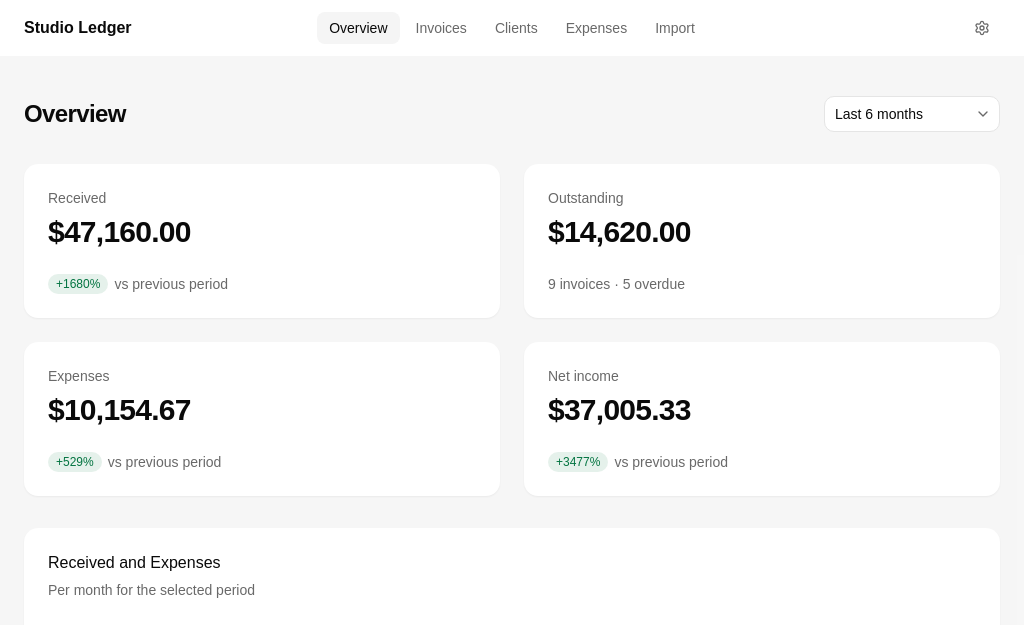
it: Overview dashboard › the period selector offers the five periods (US-1.1)
This screenshot has width=1024, height=625.
Click the dropdown named "Period" at (912,114), box [824,96,1000,132]
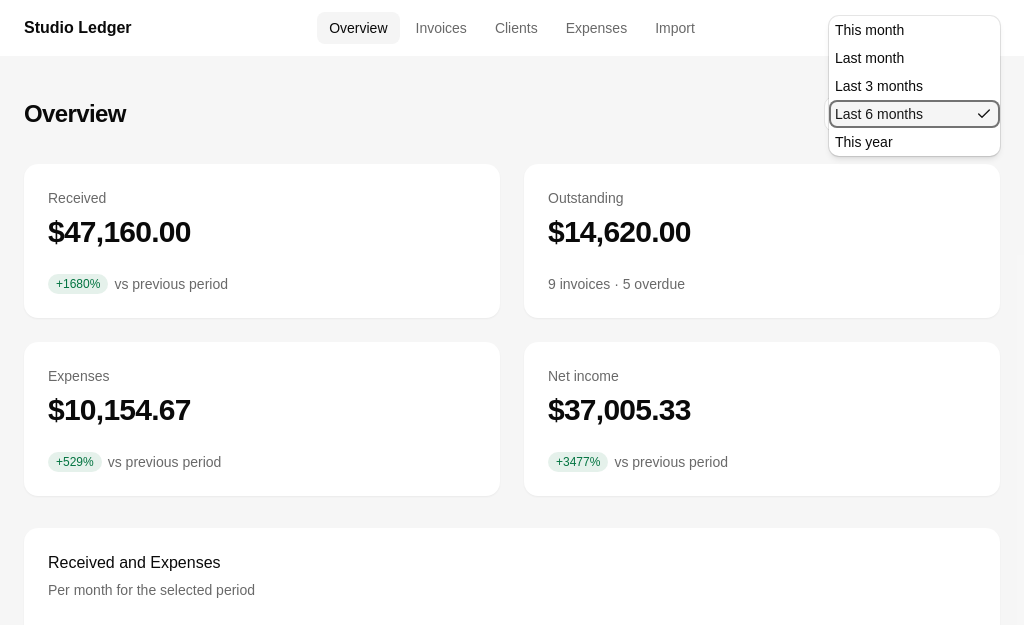
expect the options read "This month", "Last month", "Last 3 months", "Last 6 months", "This year", in this order: met, box [835,22,904,38]; [835,50,904,66]; [835,78,923,94]; [829,100,1000,128]; [835,134,893,150]
